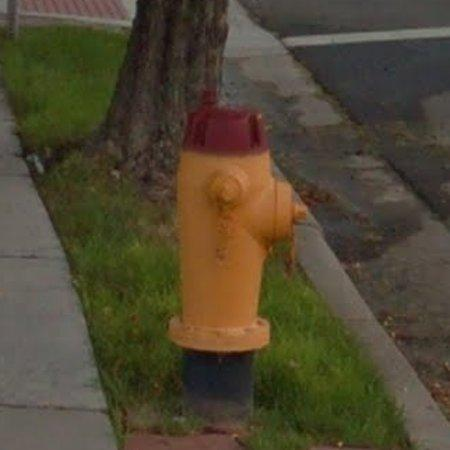a fire hydrant: (170, 89, 308, 352)
